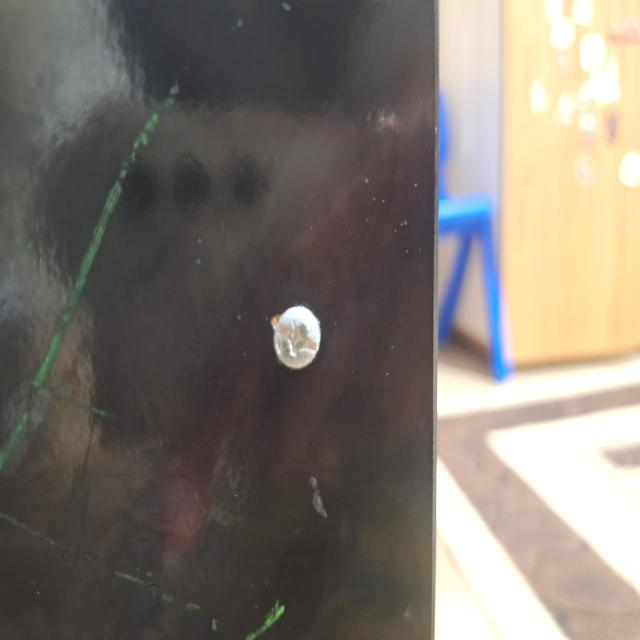Pozidriv: (272, 308, 324, 376)
